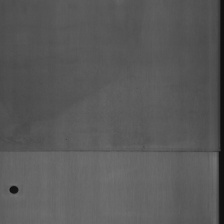welding_line: (1, 144, 223, 161), (8, 183, 21, 194)
